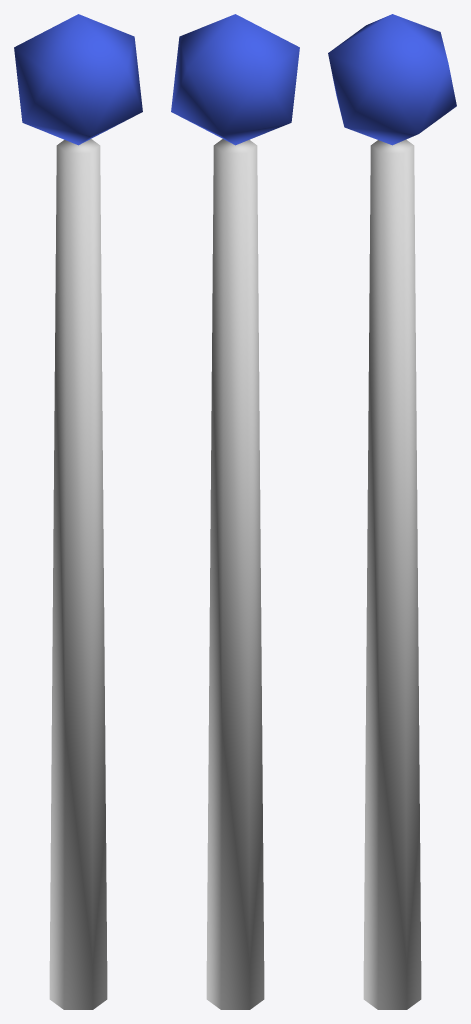
File: magic_missile.glb
3 views of the same model, side by side, from view 1: azimuth 30°, elevation 25°; view 2: azimuth 150°, elevation 25°; view 3: azimuth 330°, elevation 25° (orthographic).
Parts seen in each view (by area): view 1: magic_missile_v0; view 2: magic_missile_v0; view 3: magic_missile_v0.
Part boxes in pixels (x1,y1,x2,y2): magic_missile_v0: (14, 14, 142, 1009); magic_missile_v0: (171, 14, 299, 1009); magic_missile_v0: (328, 14, 456, 1009).
Bounding box in the file's own units: 0.0716 × 0.6 × 0.0681.
